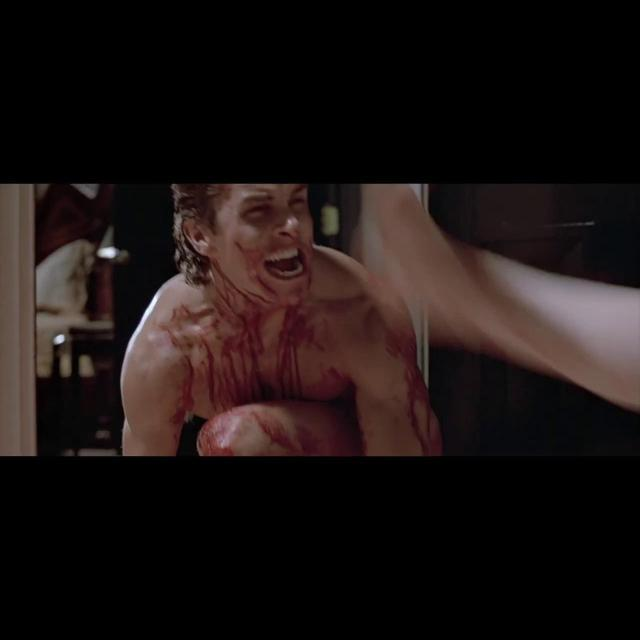blood: (185, 294, 440, 455), (199, 236, 314, 314)
